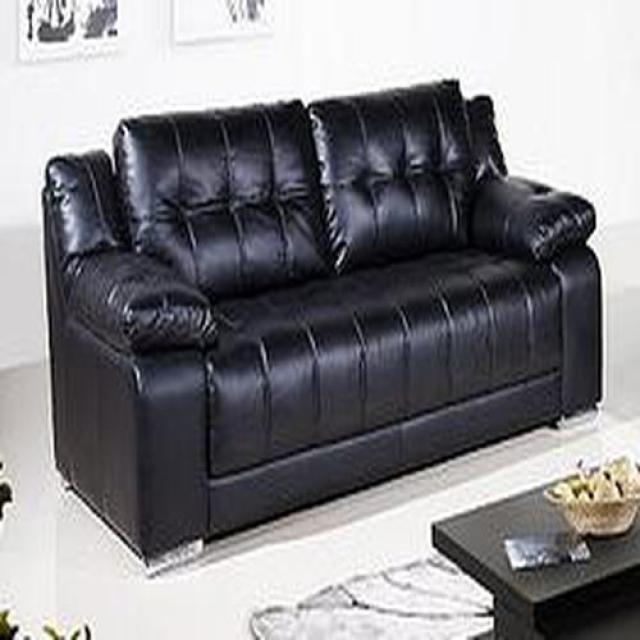sofa: (40, 79, 605, 577)
